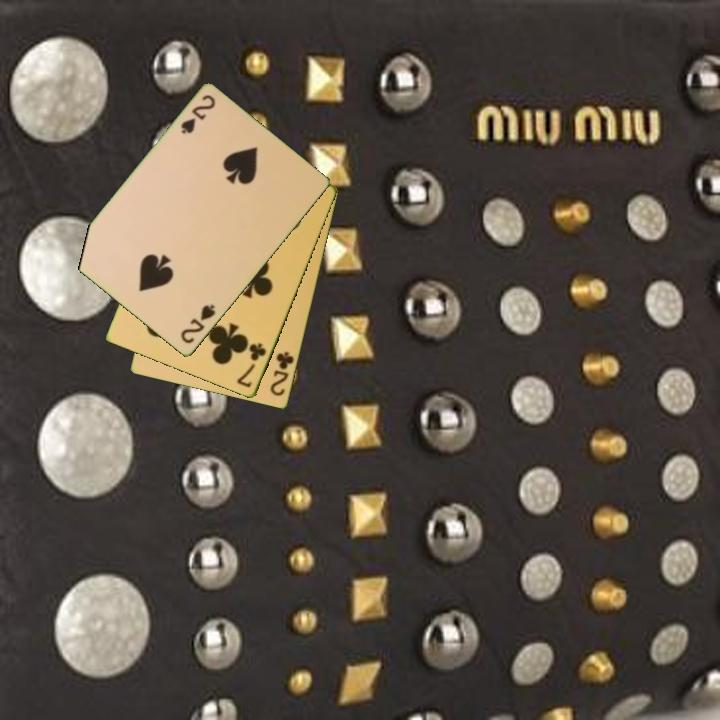2c: (267, 348, 297, 399)
2s: (177, 301, 218, 347), (177, 91, 218, 137)
7c: (233, 340, 269, 391)
